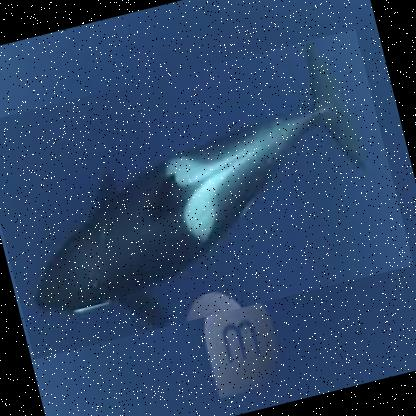killer_whale: (0, 29, 414, 362)
